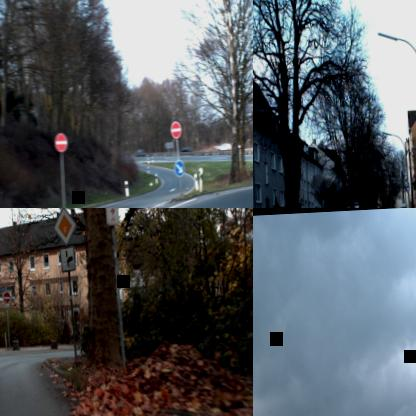NO ENTRY: (54, 132, 68, 152), (170, 120, 182, 139), (1, 290, 10, 303)
keep right: (174, 158, 184, 178)
priority road: (51, 208, 77, 247)
